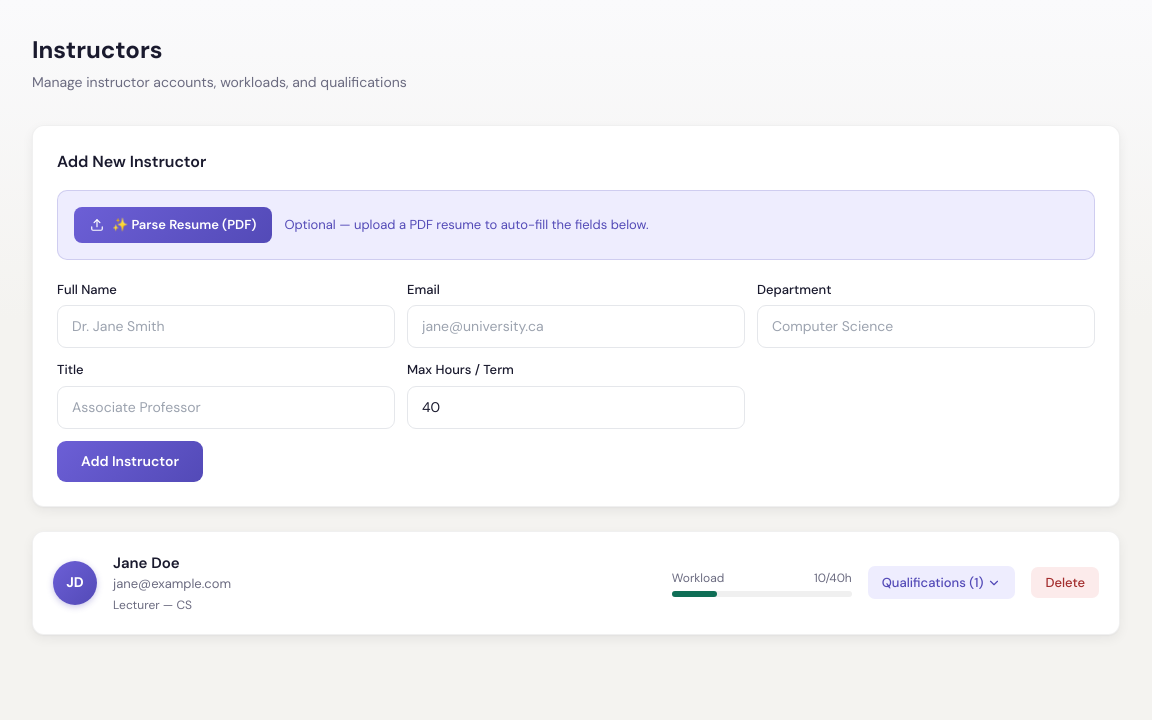
Test case: AdminInstructors › deletes an instructor via the manage-instructor function
This screenshot has width=1152, height=720.
Expected: the text "Jane Doe" is shown, [113,552,180,572]
Click the button "Delete".
click(1065, 583)  # box [1031,567,1099,598]
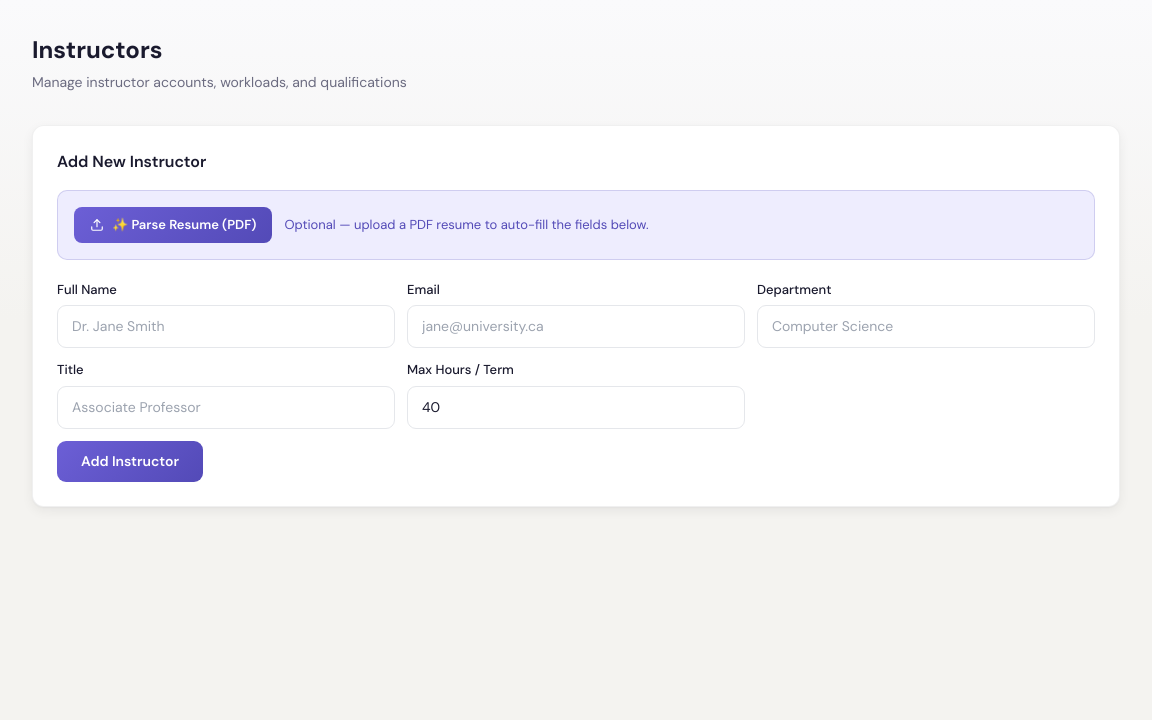
Now the text "Jane Doe" is gone
